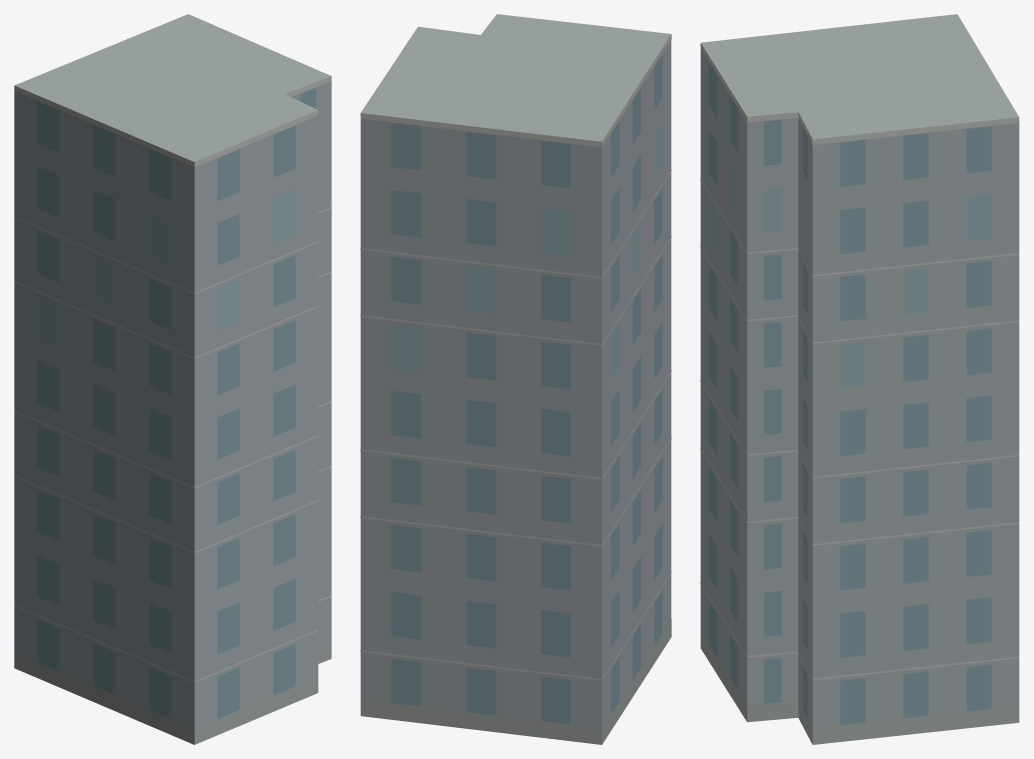
The model's file is survey-upis-33041490.glb.
3 views of the same model, side by side, from view 1: azimuth 30°, elevation 25°; view 2: azimuth 150°, elevation 25°; view 3: azimuth 270°, elevation 25° (orthographic). The views are drawn at different scales.
Parts seen in each view (by area): view 1: survey-upis-33041490.tmp; view 2: survey-upis-33041490.tmp; view 3: survey-upis-33041490.tmp.
Part boxes in pixels (x1,y1,x2,y2): survey-upis-33041490.tmp: [14, 14, 331, 744]; survey-upis-33041490.tmp: [360, 14, 671, 744]; survey-upis-33041490.tmp: [700, 14, 1019, 744].
Bounding box in the file's own units: 11.76 × 26.4 × 12.62.
